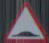Speed Breaker ahead: (1, 4, 45, 42)
